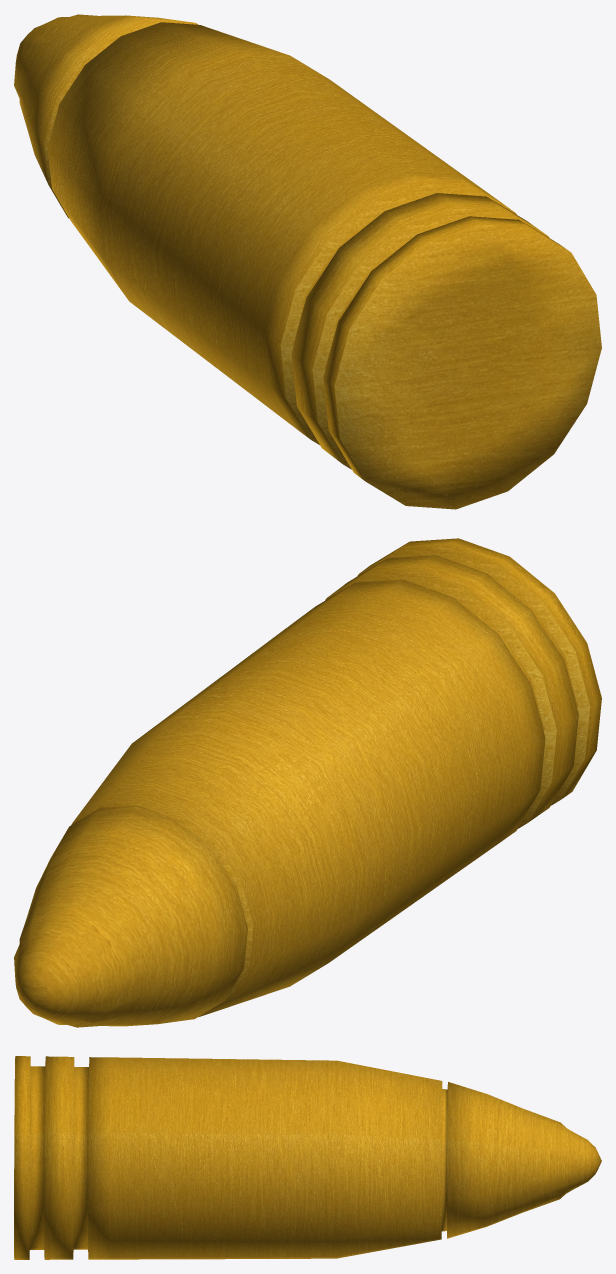
File: TankBulletYellow.glb
3 views of the same model, one above another, from view 1: azimuth 30°, elevation 25°; view 2: azimuth 150°, elevation 25°; view 3: azimuth 270°, elevation 25° (orthographic). The views are drawn at different scales.
Visible parts, largest first — view 1: Bullet; view 2: Bullet; view 3: Bullet.
Part boxes in pixels (x1=…): Bullet: x1=14, y1=14, x2=601, y2=509; Bullet: x1=14, y1=538, x2=601, y2=1027; Bullet: x1=14, y1=1056, x2=601, y2=1259.
Size of the model in its own units: 0.1828 by 0.1828 by 0.5243.
1 material, 1 textured.
